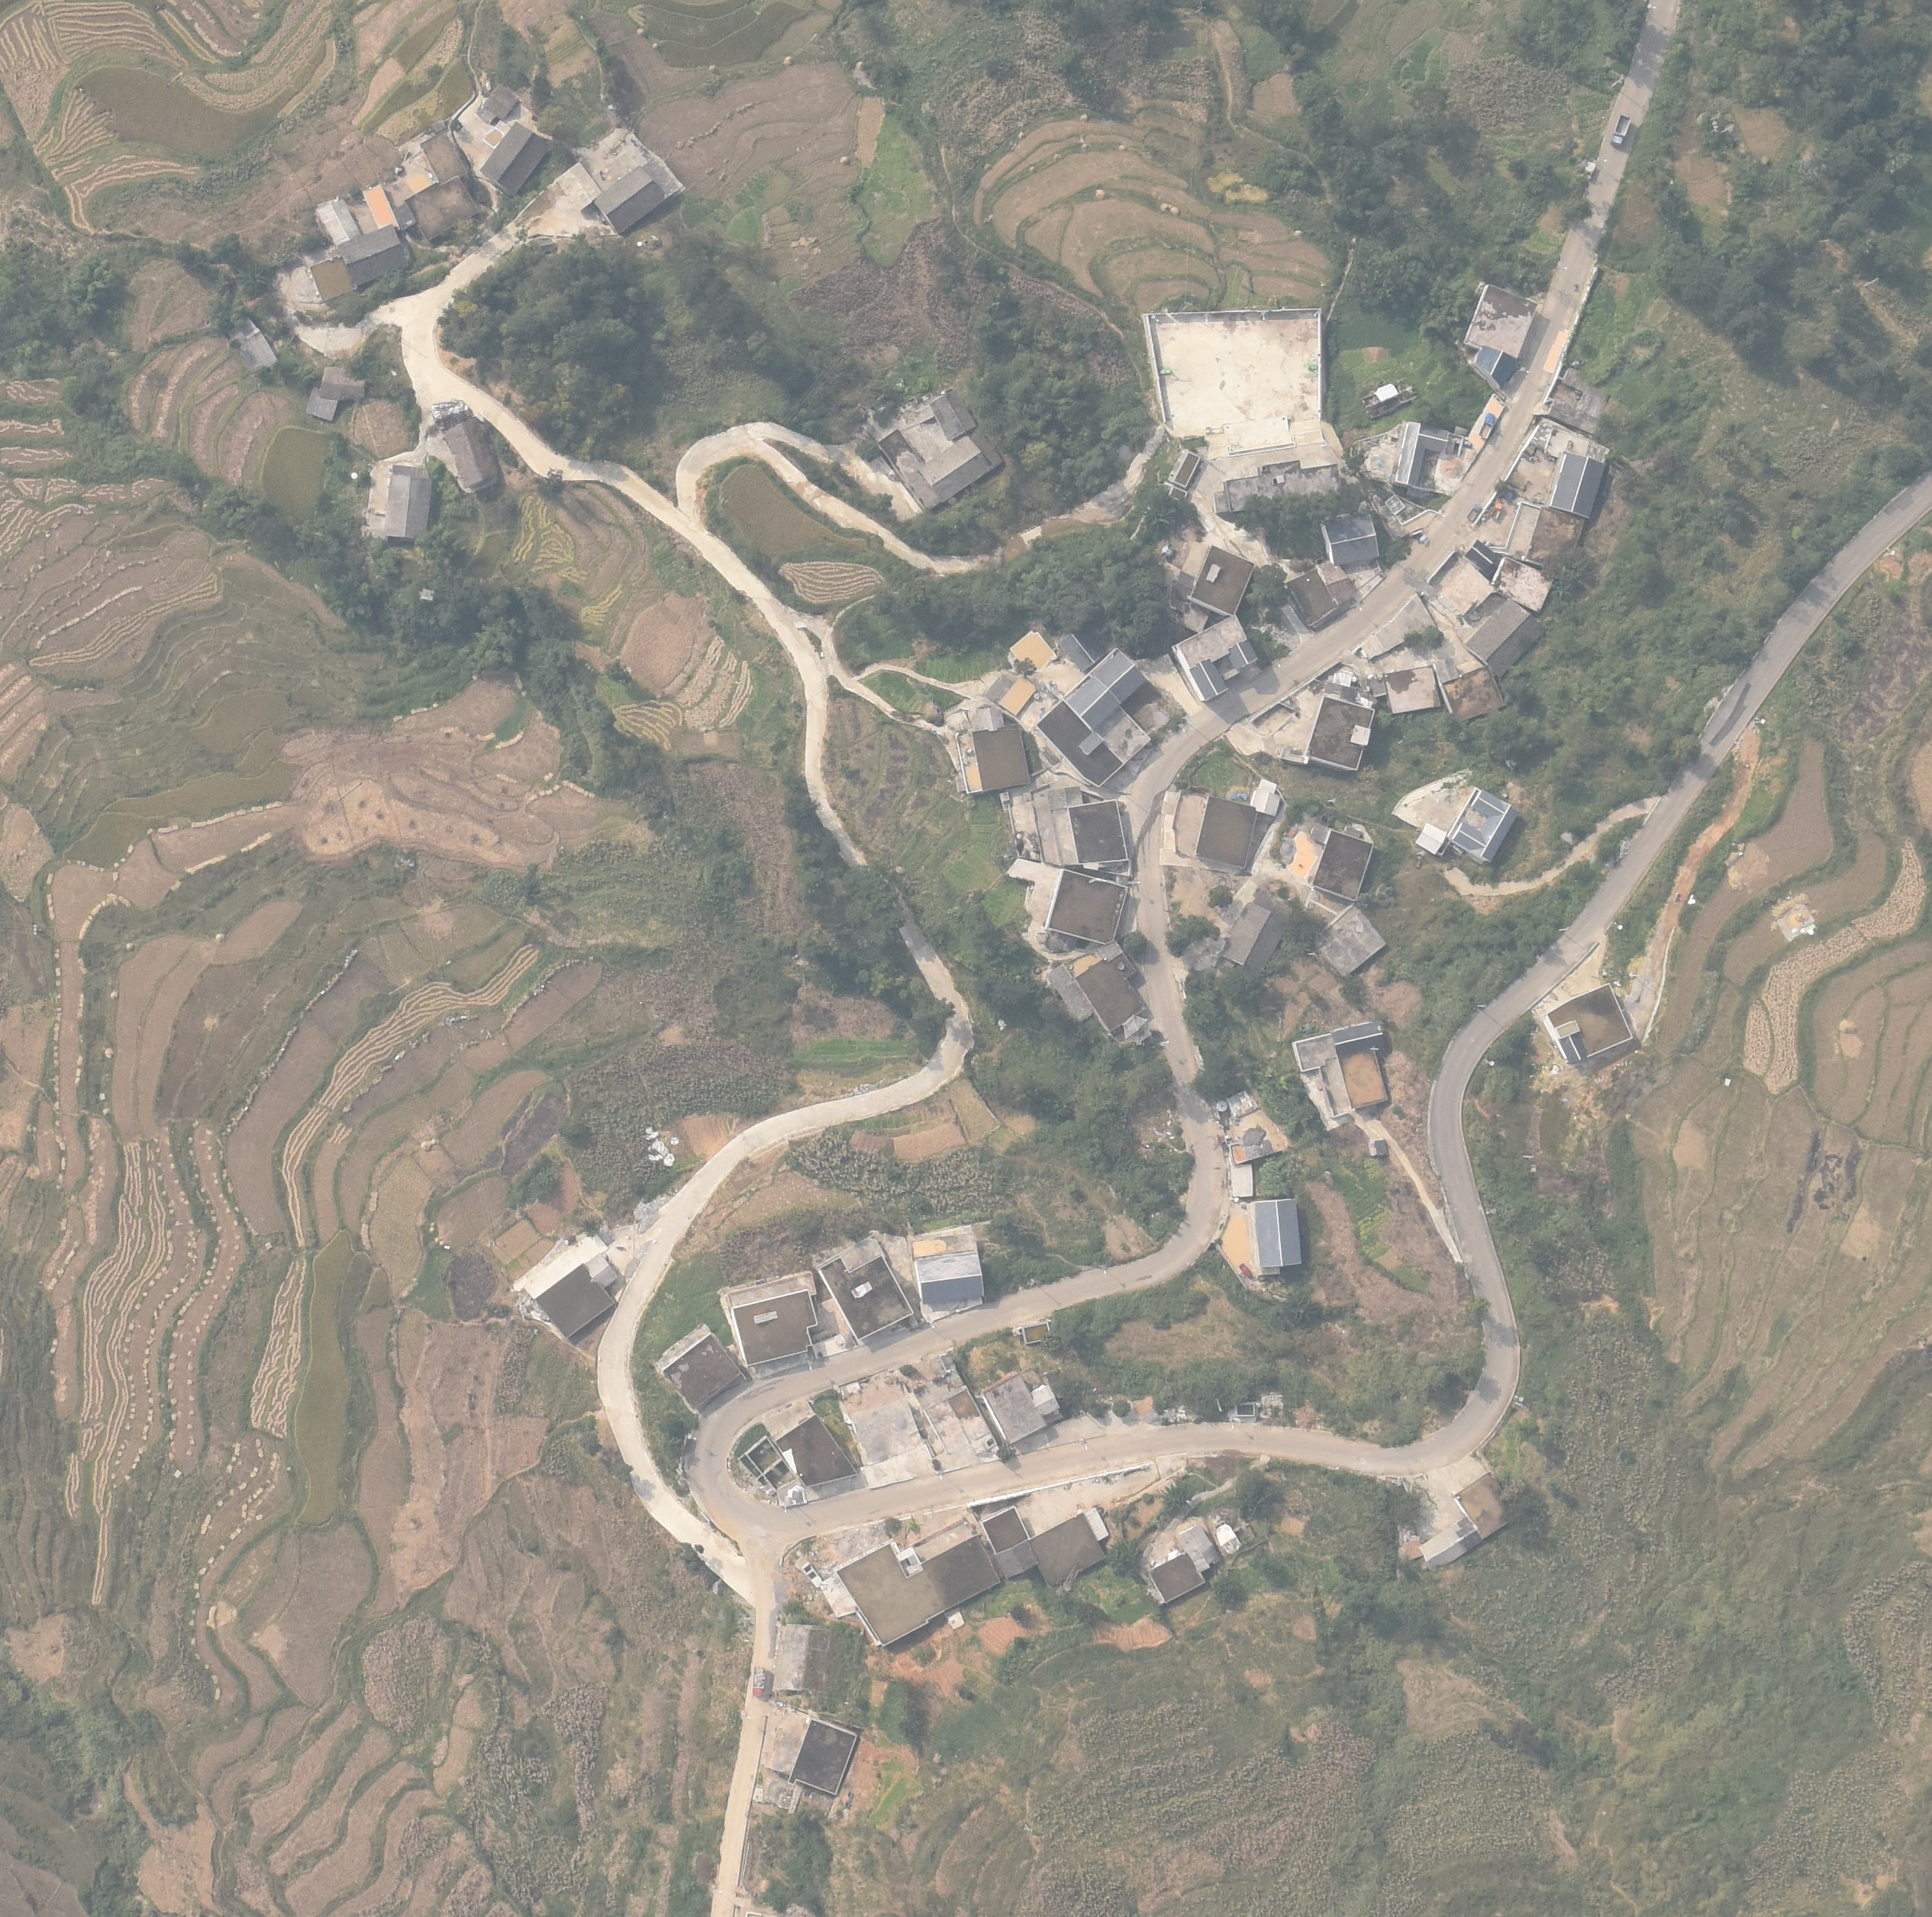building: (1140, 309, 1324, 427), (836, 1534, 999, 1647), (817, 1255, 915, 1341), (1036, 700, 1122, 785), (1177, 616, 1258, 702), (1546, 981, 1633, 1060), (1210, 460, 1342, 513), (731, 1289, 817, 1366), (662, 1332, 741, 1411), (1463, 597, 1540, 678), (1047, 869, 1126, 946), (776, 1415, 859, 1487), (1027, 1513, 1107, 1587), (536, 1264, 615, 1338), (1073, 953, 1145, 1034), (789, 1719, 857, 1798), (1445, 788, 1517, 862), (1465, 284, 1537, 358), (1307, 695, 1377, 771), (479, 121, 551, 193), (1393, 421, 1465, 493), (402, 176, 479, 241), (1293, 1034, 1352, 1116), (920, 437, 992, 502), (1221, 901, 1284, 974), (595, 167, 660, 237), (982, 1373, 1047, 1443), (1189, 544, 1254, 614), (1196, 795, 1256, 869), (1453, 1473, 1519, 1538), (337, 223, 406, 286), (1525, 506, 1584, 576), (1547, 369, 1609, 435), (1314, 830, 1372, 901), (1068, 801, 1128, 865), (444, 418, 499, 488), (971, 725, 1031, 788), (913, 1250, 984, 1303), (1549, 453, 1605, 513), (1319, 511, 1381, 565), (1419, 1517, 1482, 1569), (1254, 1203, 1301, 1267), (385, 476, 430, 539), (1092, 650, 1147, 702), (1284, 571, 1337, 625), (420, 128, 469, 184), (1149, 1554, 1205, 1601), (1064, 678, 1121, 725), (1384, 667, 1442, 713), (929, 390, 977, 441), (309, 255, 357, 304), (982, 1506, 1029, 1555), (1361, 377, 1417, 418), (318, 200, 362, 249), (1059, 625, 1107, 669), (1177, 1526, 1219, 1571), (1474, 346, 1517, 388), (478, 84, 520, 126), (1331, 1020, 1384, 1052), (996, 1538, 1036, 1578), (1317, 560, 1354, 600), (320, 367, 364, 400), (306, 386, 337, 421), (1173, 451, 1200, 488), (1467, 541, 1496, 571)
cable-tower: (1180, 300, 1191, 314)
prefabricated-house: (557, 162, 602, 211), (1252, 778, 1280, 816), (1416, 823, 1445, 853), (1033, 1385, 1061, 1415), (1231, 1166, 1252, 1197)
vehicle: (1611, 114, 1632, 146), (752, 1668, 768, 1698), (1477, 413, 1495, 439), (1467, 502, 1481, 521), (1491, 502, 1502, 520)
well: (348, 469, 362, 481)
